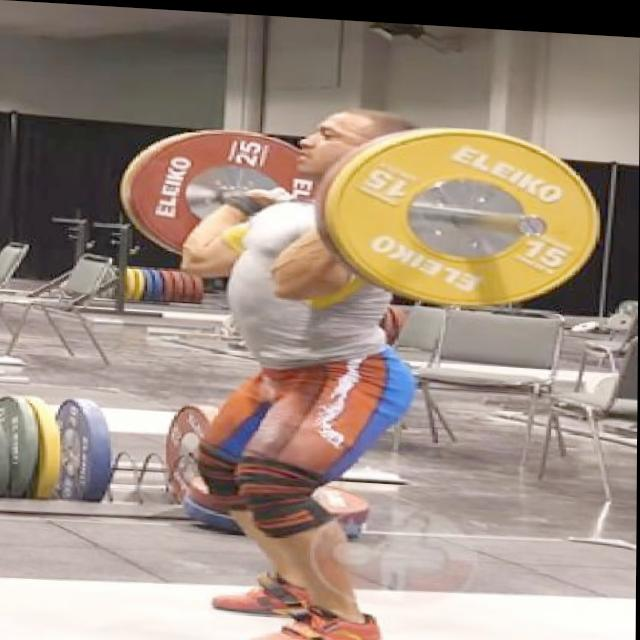barbell: (331, 115, 606, 314)
